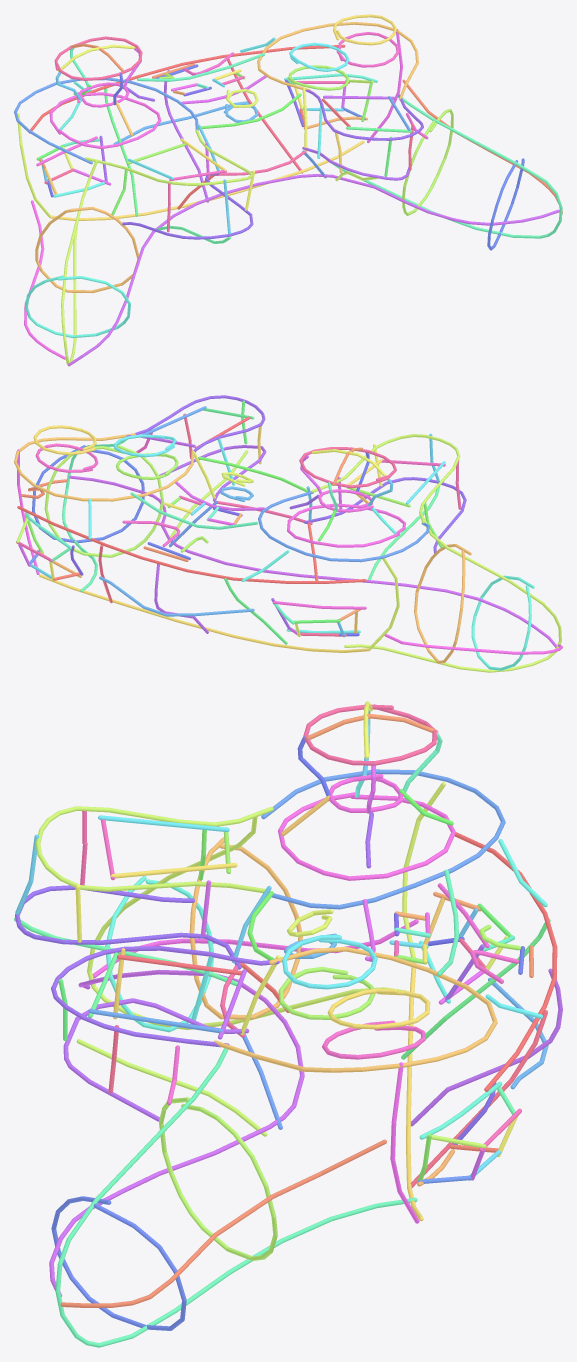
Rendered from author2_gamepad.gltf.
3 views of the same model, one above another, from view 1: azimuth 30°, elevation 25°; view 2: azimuth 150°, elevation 25°; view 3: azimuth 270°, elevation 25° (orthographic). The views are drawn at different scales.
Bounding box in the file's own units: 0.8146 × 0.3602 × 0.4678.
